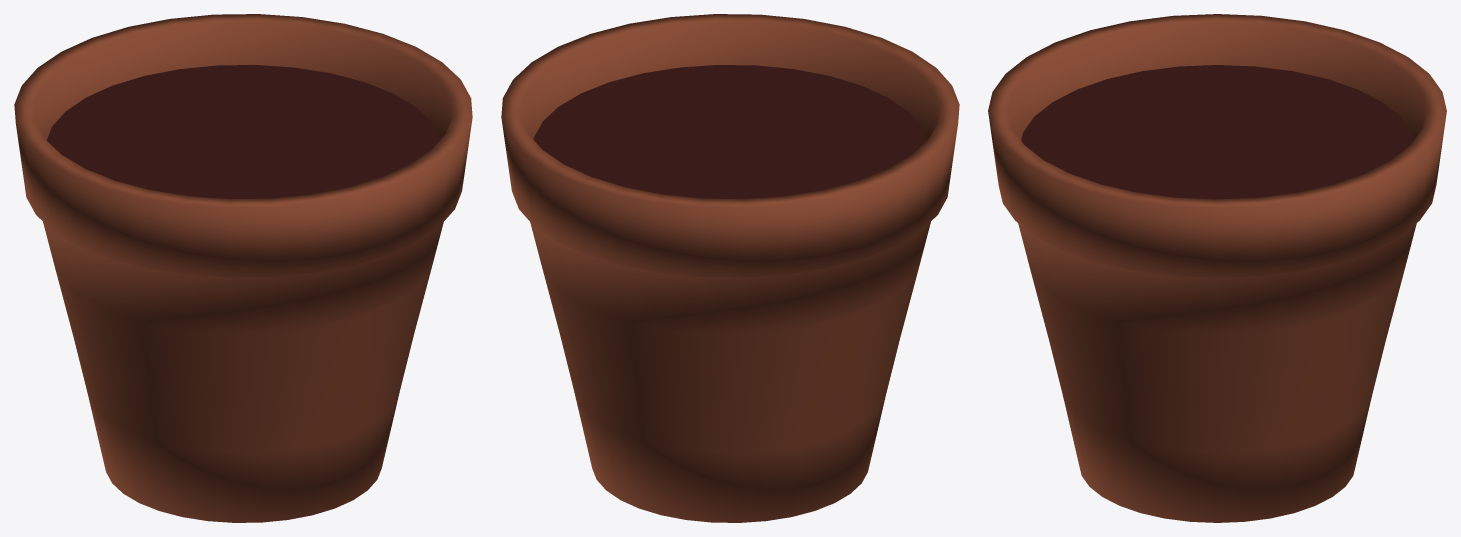
File: Pot.fbx
The picture shows the model from 3 angles, left to right: view 1: azimuth 30°, elevation 25°; view 2: azimuth 150°, elevation 25°; view 3: azimuth 270°, elevation 25°; orthographic projection.
Parts seen in each view (by area): view 1: pot, soil; view 2: pot, soil; view 3: pot, soil.
Boxes of the visible parts, x1,y1,x2,y2 form: pot: [14, 14, 472, 522]; soil: [46, 65, 440, 199]; pot: [501, 14, 959, 522]; soil: [533, 65, 927, 199]; pot: [988, 14, 1446, 522]; soil: [1021, 65, 1413, 199].
Size of the model in its own units: 285 by 242 by 285.
